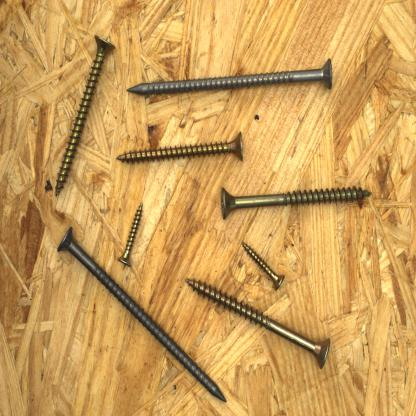screw: (56, 224, 230, 406), (184, 276, 335, 372), (54, 28, 118, 201), (124, 56, 335, 98), (220, 184, 373, 220), (115, 130, 244, 166), (240, 239, 288, 292), (117, 200, 146, 270)
